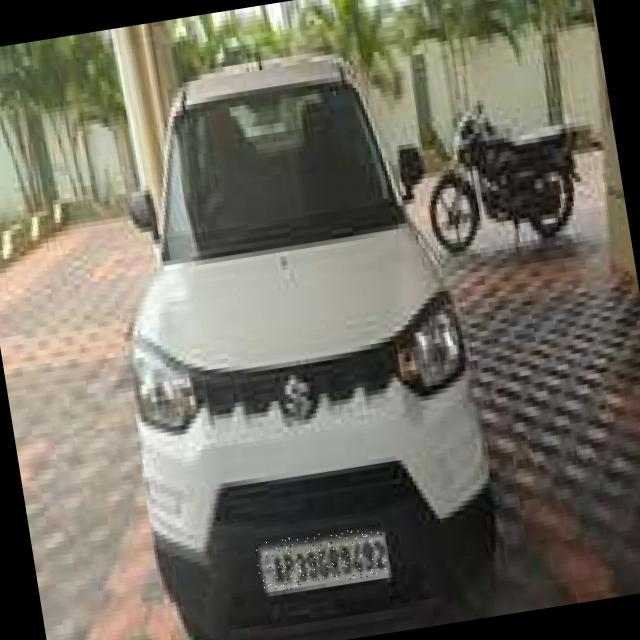Plate: (256, 524, 390, 594)
